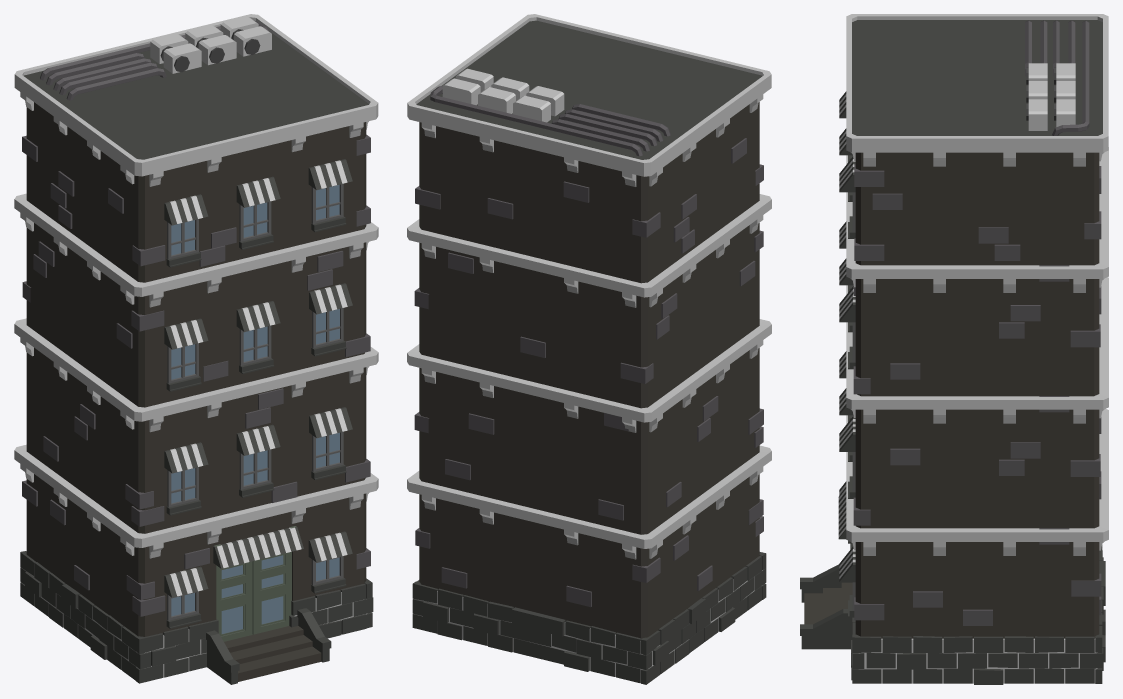
The model's file is 4Story.glb.
3 renders of one model, left to right at view 1: azimuth 30°, elevation 25°; view 2: azimuth 150°, elevation 25°; view 3: azimuth 270°, elevation 25°, orthographic. The views are drawn at different scales.
Visible parts, largest first — view 1: 4Story_Cube.005; view 2: 4Story_Cube.005; view 3: 4Story_Cube.005.
Part boxes in pixels (x1,y1,x2,y2): 4Story_Cube.005: [14, 14, 378, 684]; 4Story_Cube.005: [407, 14, 771, 684]; 4Story_Cube.005: [800, 14, 1108, 684].
Bounding box in the file's own units: 2.42 × 5.09 × 2.53.
Materials: 1 (1 with a texture image).
